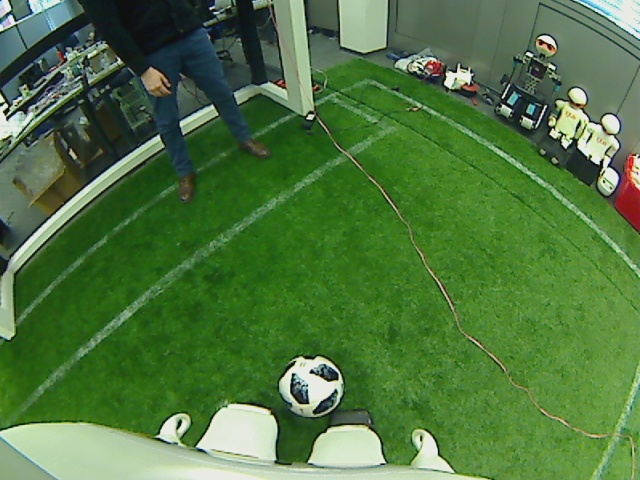ball: (275, 353, 346, 419)
